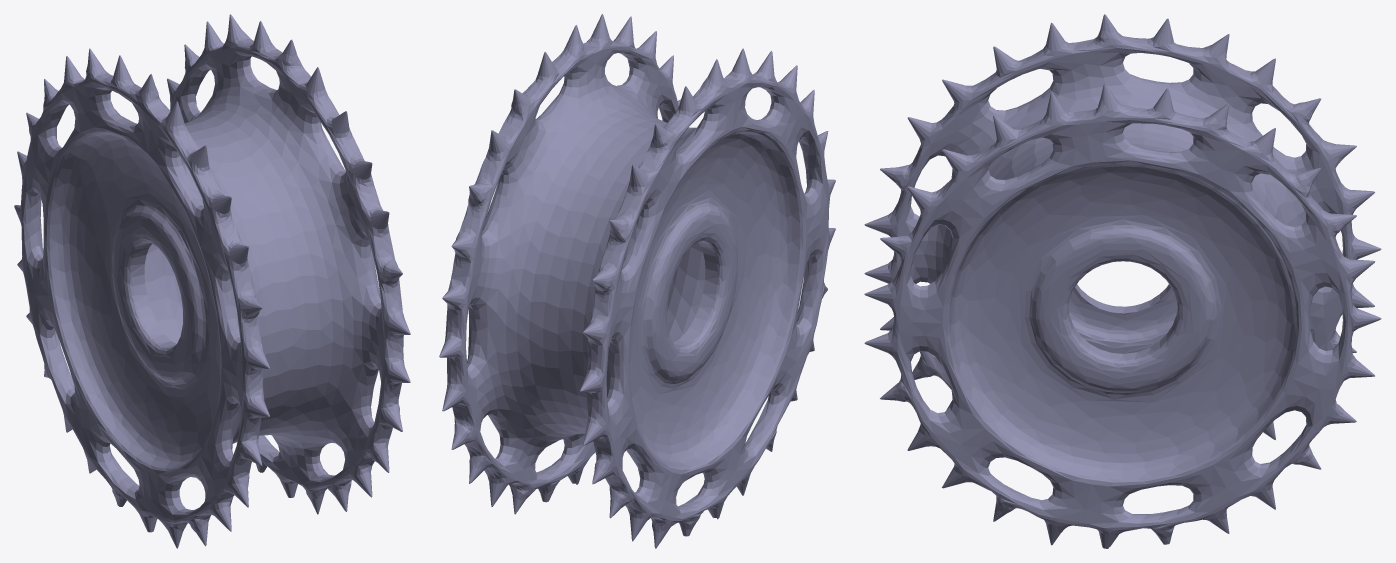
Rendered from sprocket_L_LowPoly.obj.
The picture shows the model from 3 angles, left to right: view 1: azimuth 30°, elevation 25°; view 2: azimuth 150°, elevation 25°; view 3: azimuth 270°, elevation 25°; orthographic projection.
Parts seen in each view (by area): view 1: sprocket_L_LowPoly\Facets; view 2: sprocket_L_LowPoly\Facets; view 3: sprocket_L_LowPoly\Facets.
Part boxes in pixels (left/top/right/bottom): sprocket_L_LowPoly\Facets: left=14, top=14, right=410, bottom=548; sprocket_L_LowPoly\Facets: left=439, top=14, right=835, bottom=548; sprocket_L_LowPoly\Facets: left=864, top=14, right=1381, bottom=548.
Size of the model in its own units: 0.2703 by 0.7407 by 0.7481.
